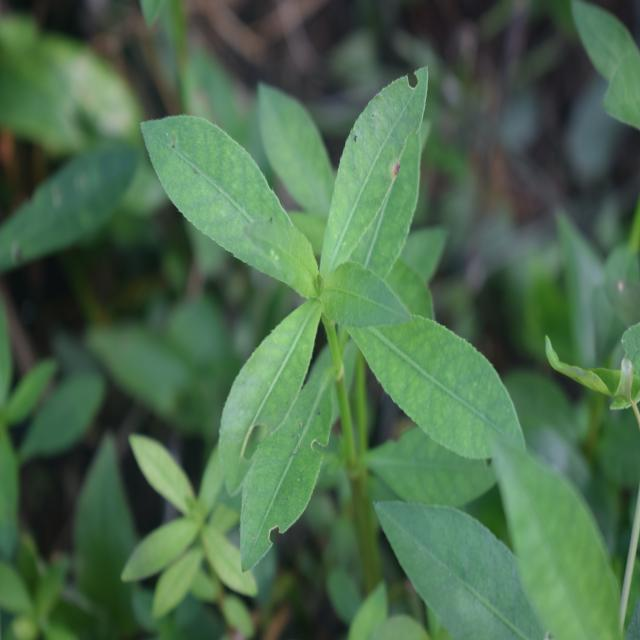Alligatorweed: (166, 54, 496, 512)
